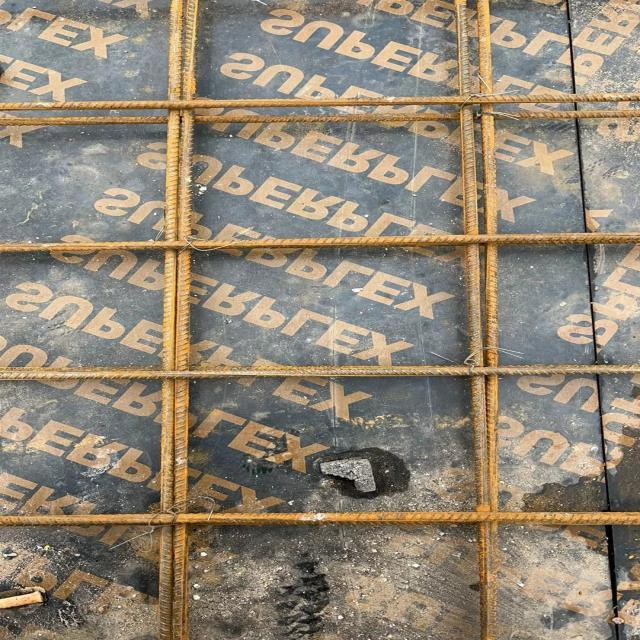ribbed bar: (158, 0, 200, 639), (453, 0, 491, 512), (479, 0, 503, 639), (1, 231, 640, 253), (1, 93, 640, 112), (1, 363, 640, 382), (1, 110, 640, 128), (1, 511, 640, 527)
